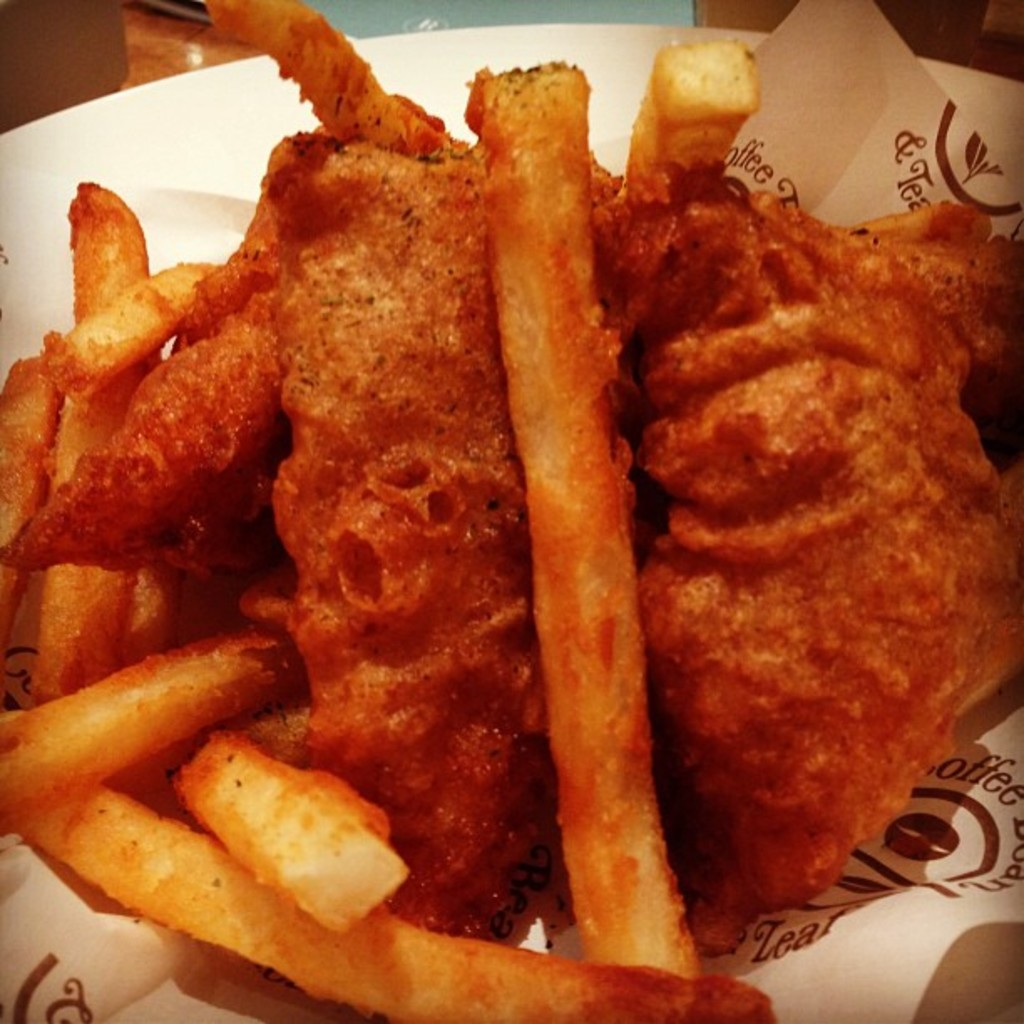French fries: (0, 16, 768, 1022)
